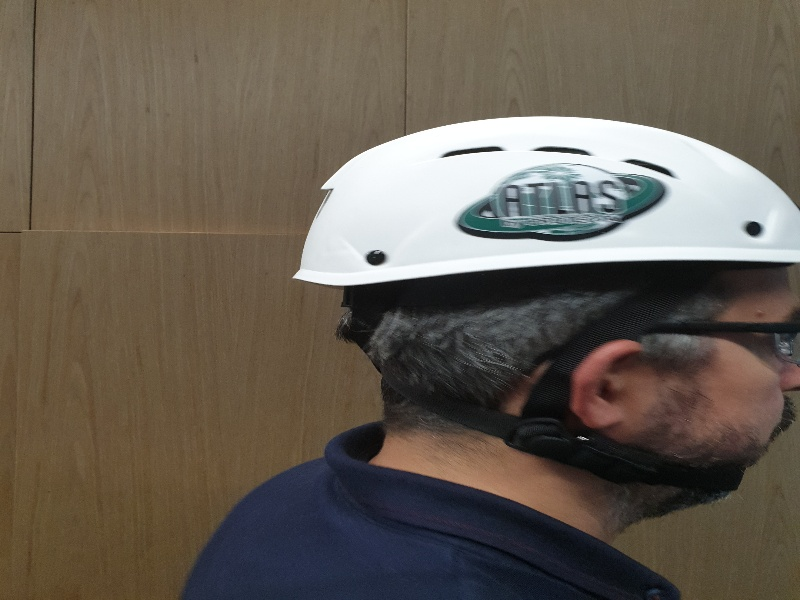Baret: (287, 116, 800, 279)
